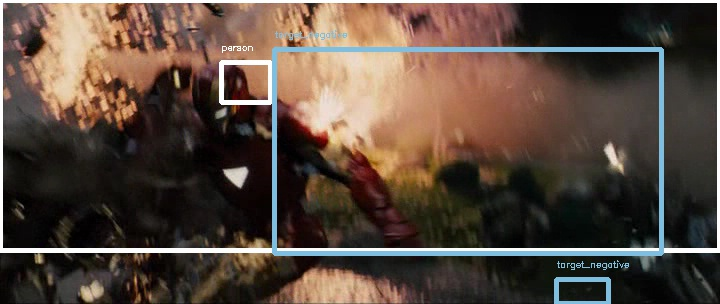person: (194, 66, 244, 134), (193, 66, 243, 134), (195, 66, 245, 134), (194, 65, 244, 133), (194, 67, 244, 135)
target_negative: (473, 72, 675, 154), (340, 101, 699, 109), (589, 24, 618, 101), (686, 181, 710, 228), (671, 225, 680, 260), (163, 277, 378, 278)
